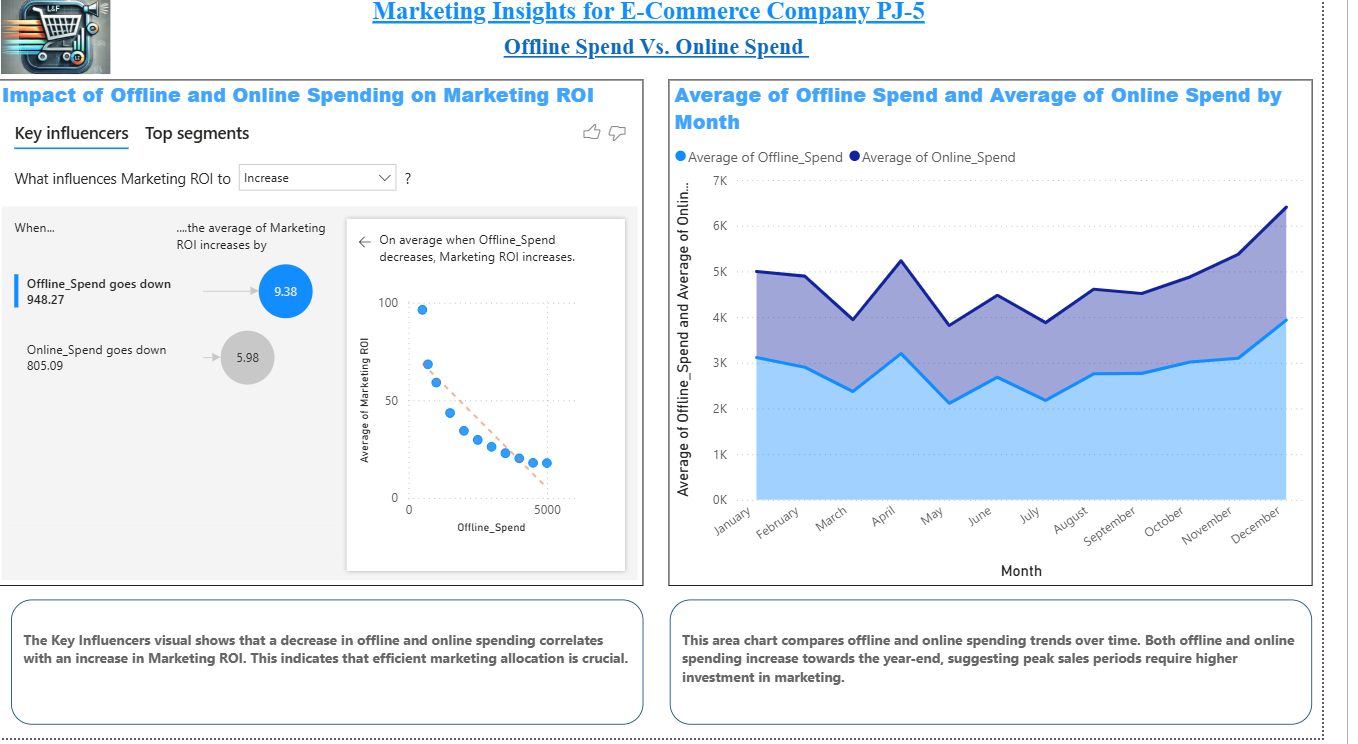

The page's visual inventory and layout, read from the dashboard file:
{"tool":"powerbi","page":{"name":"Of vs. On","canvas":[1280,720],"ordinal":4},"visuals":[{"type":"keyDriversVisual","title":"Impact of Offline and Online Spending on Marketing ROI","fields":{"Target":["Online_Sales.Marketing ROI"],"ExplainBy":["Marketing_Spend.Offline_Spend","Marketing_Spend.Online_Spend","Discount_Coupon.Month","Discount_Coupon.Product_Category"]},"box":[0,84.5,624.9,488.6],"z":0},{"type":"textbox","box":[358.3,0,561,56.7],"z":1000},{"type":"stackedAreaChart","title":"Average of Offline Spend and Average of Online Spend by Month","fields":{"Category":["Marketing_Spend.Date.Variation.Date Hierarchy.Year","Marketing_Spend.Date.Variation.Date Hierarchy.Month"],"Y":["Avg(Marketing_Spend.Offline_Spend)","Avg(Marketing_Spend.Online_Spend)"]},"box":[649.1,84.5,621.3,488.6],"z":2000},{"type":"textbox","box":[485,36.2,329.4,39.8],"z":3000},{"type":"textbox","box":[14.5,586.3,610.5,120.6],"z":4000},{"type":"textbox","box":[650.3,586.3,620.1,120.6],"z":5000},{"type":"image","box":[0,0,115.8,84.5],"z":5001}]}

Visuals, with their boxes in screenshot pixels (x1, y1, x2, y2), scaled from the page's 1280x720 canvas onto the 1358x744 screenshot:
"Impact of Offline and Online Spending on Marketing ROI" keyDriversVisual: box(0, 87, 663, 592)
textbox: box(380, 0, 975, 59)
"Average of Offline Spend and Average of Online Spend by Month" stackedAreaChart: box(689, 87, 1348, 592)
textbox: box(515, 37, 864, 79)
textbox: box(15, 606, 663, 730)
textbox: box(690, 606, 1348, 730)
image: box(0, 0, 123, 87)
